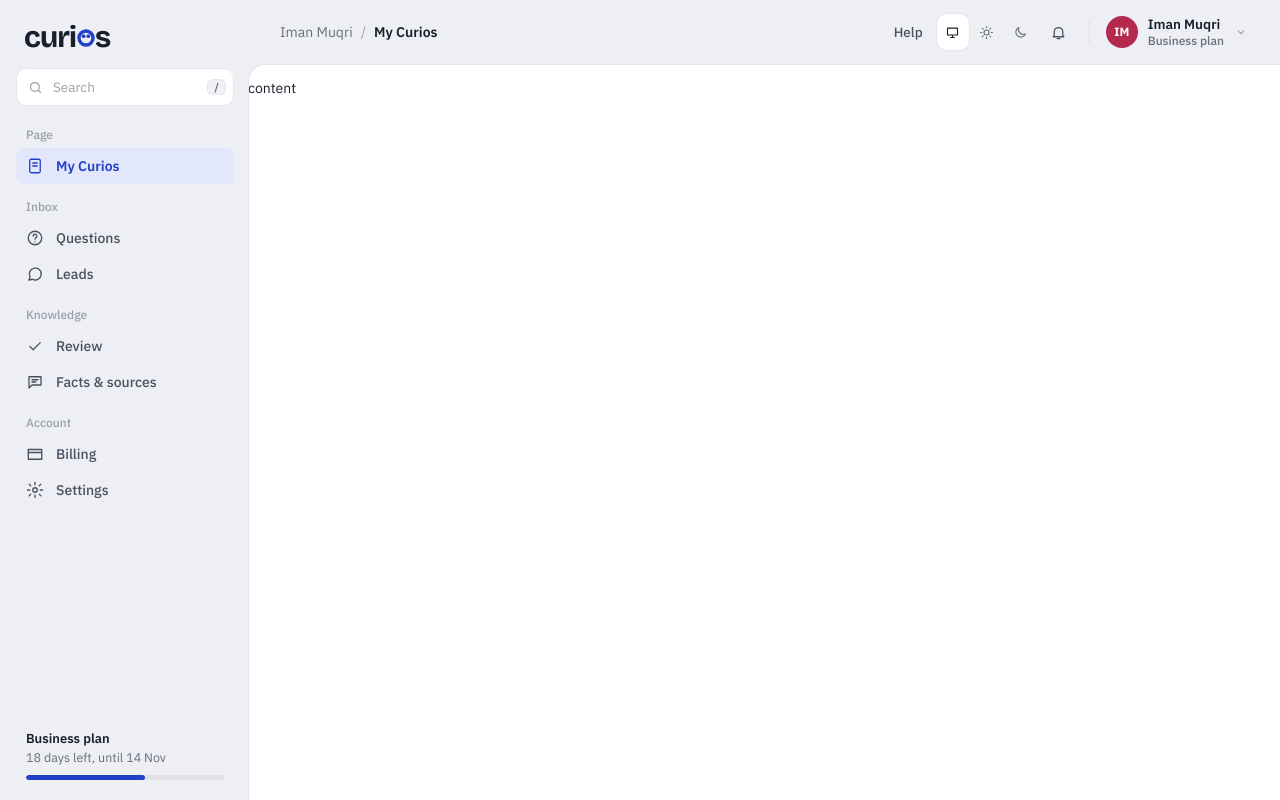
Scenario: the top bar › says nothing needs the owner when nothing does, with no count on the bell
Click the button named "Notifications".
click(1059, 32)  # box [1041,14,1077,50]
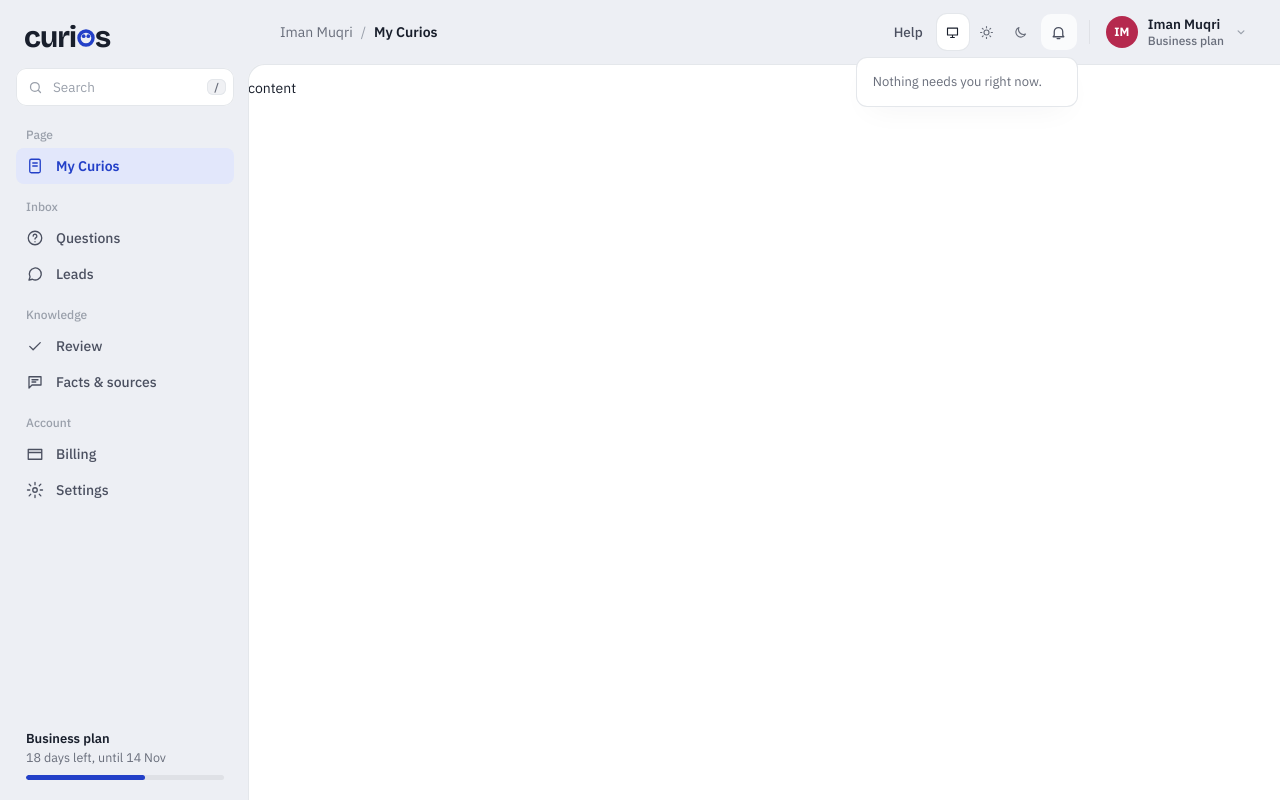
Result: the text "Nothing needs you right now." is shown at [873,73,1042,90]
